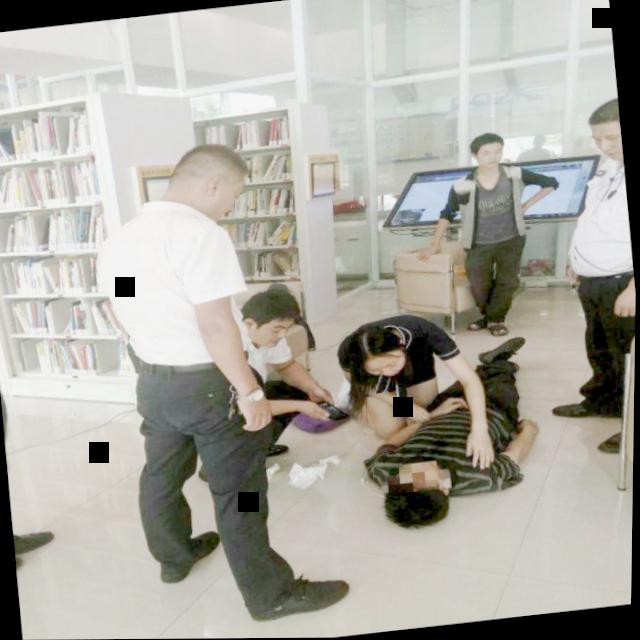Fall-Detected: (346, 329, 572, 537)
